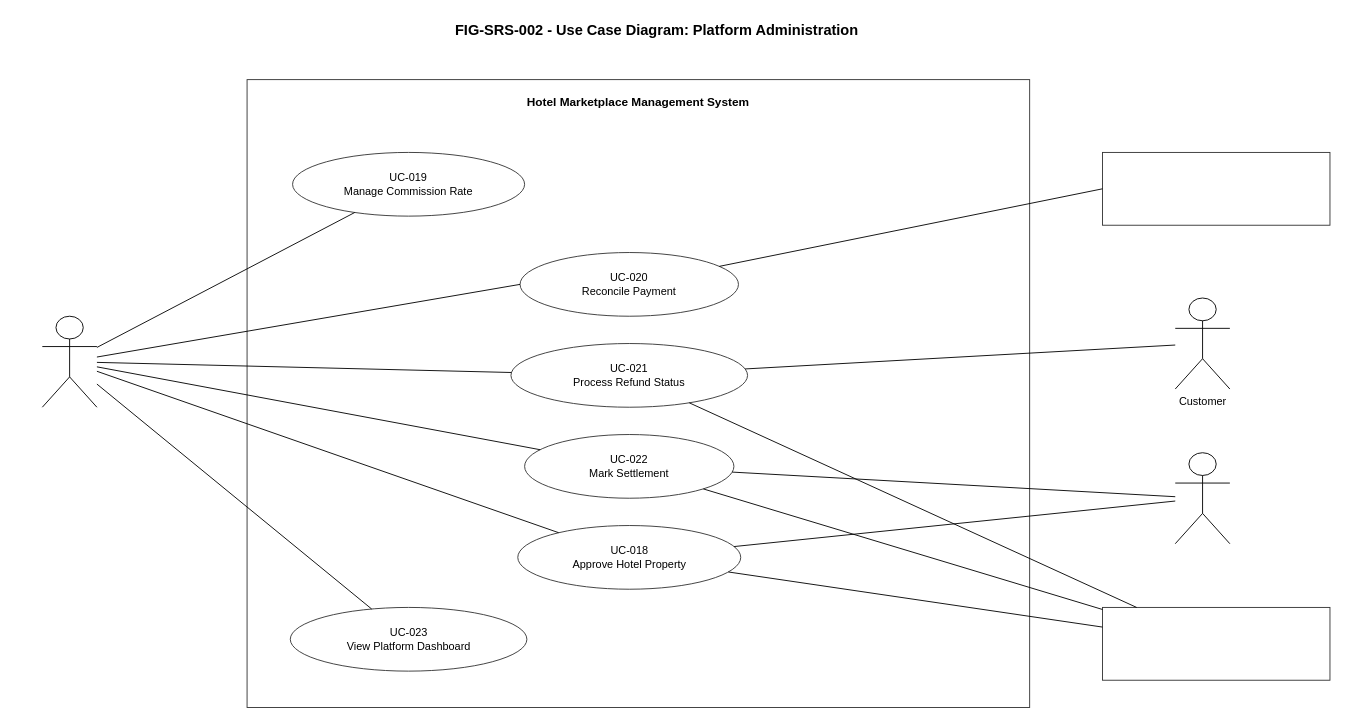
This 1346x723 diagram has some shape labels left out. The centre of each missing label's shape, as x and y in pixels:
"Notification Service <<external system / mock>>" belongs at (1216,643).
"payOS Payment Gateway <<external system>>" belongs at (1216,188).
"Platform Administrator" belongs at (69,361).
"Property Owner" belongs at (1202,498).
